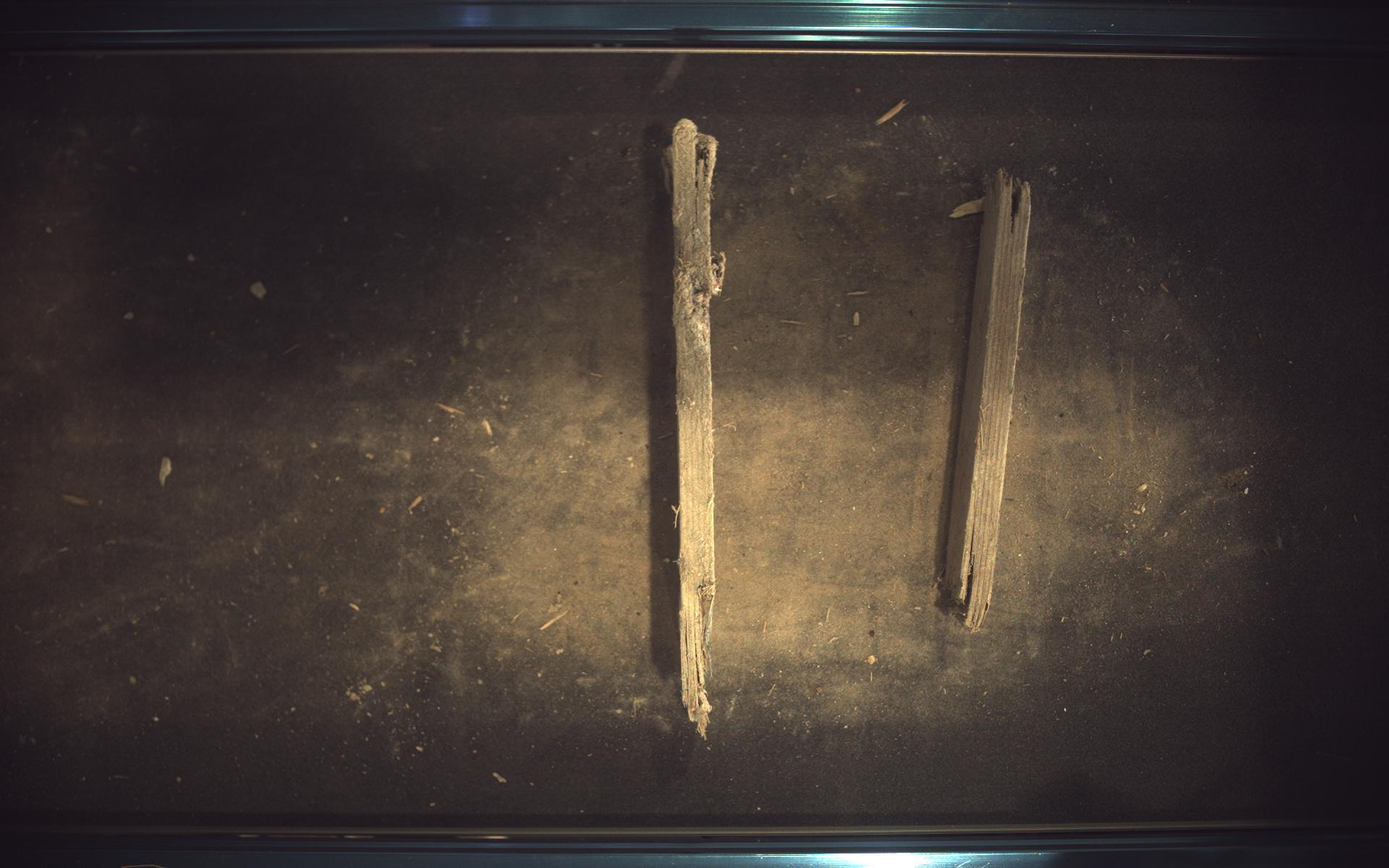wood: (946, 169, 1034, 631), (668, 118, 726, 738)
